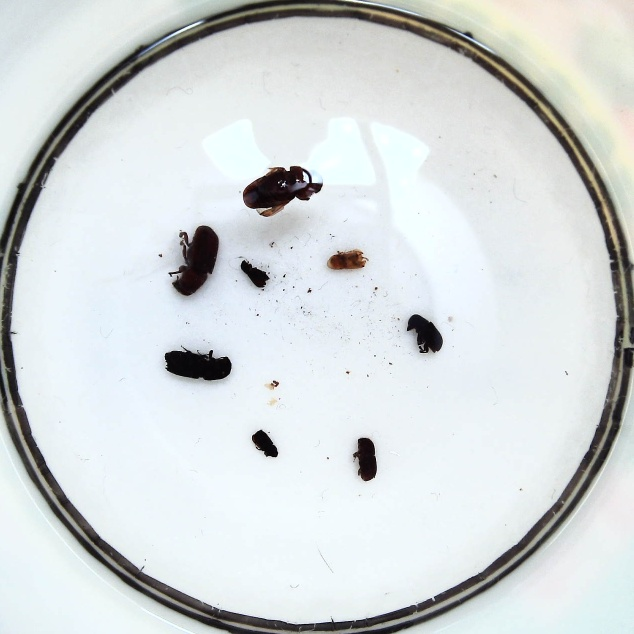acuminatus: (240, 259, 269, 288), (251, 428, 278, 457)
armandi: (406, 314, 442, 353)
boerner: (165, 351, 232, 380)
coleoptera: (326, 250, 365, 269)
leconte: (242, 166, 323, 210), (171, 225, 219, 295)
linnaeus: (357, 437, 377, 481)
